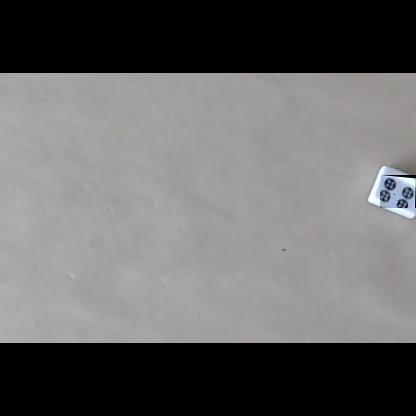4p: (380, 175, 416, 208)
